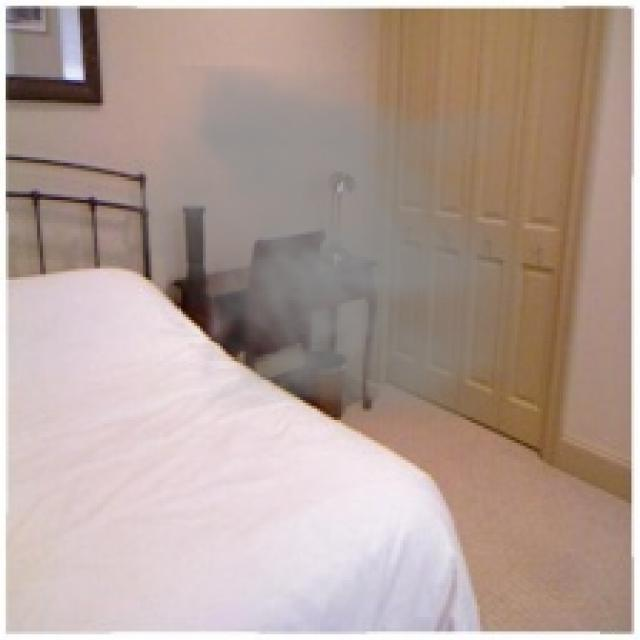Smoke: (111, 66, 523, 423)
